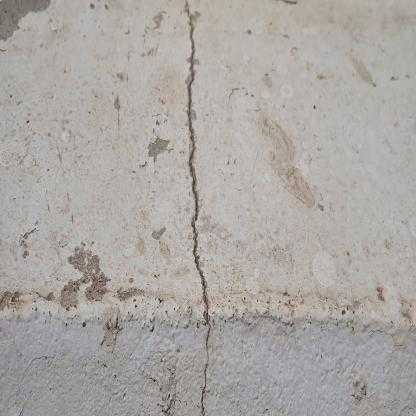crack: (187, 3, 212, 415)
